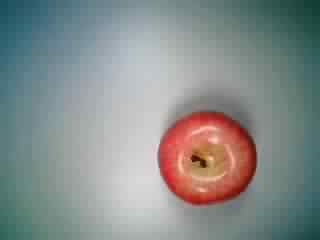apple: (151, 106, 258, 209)
